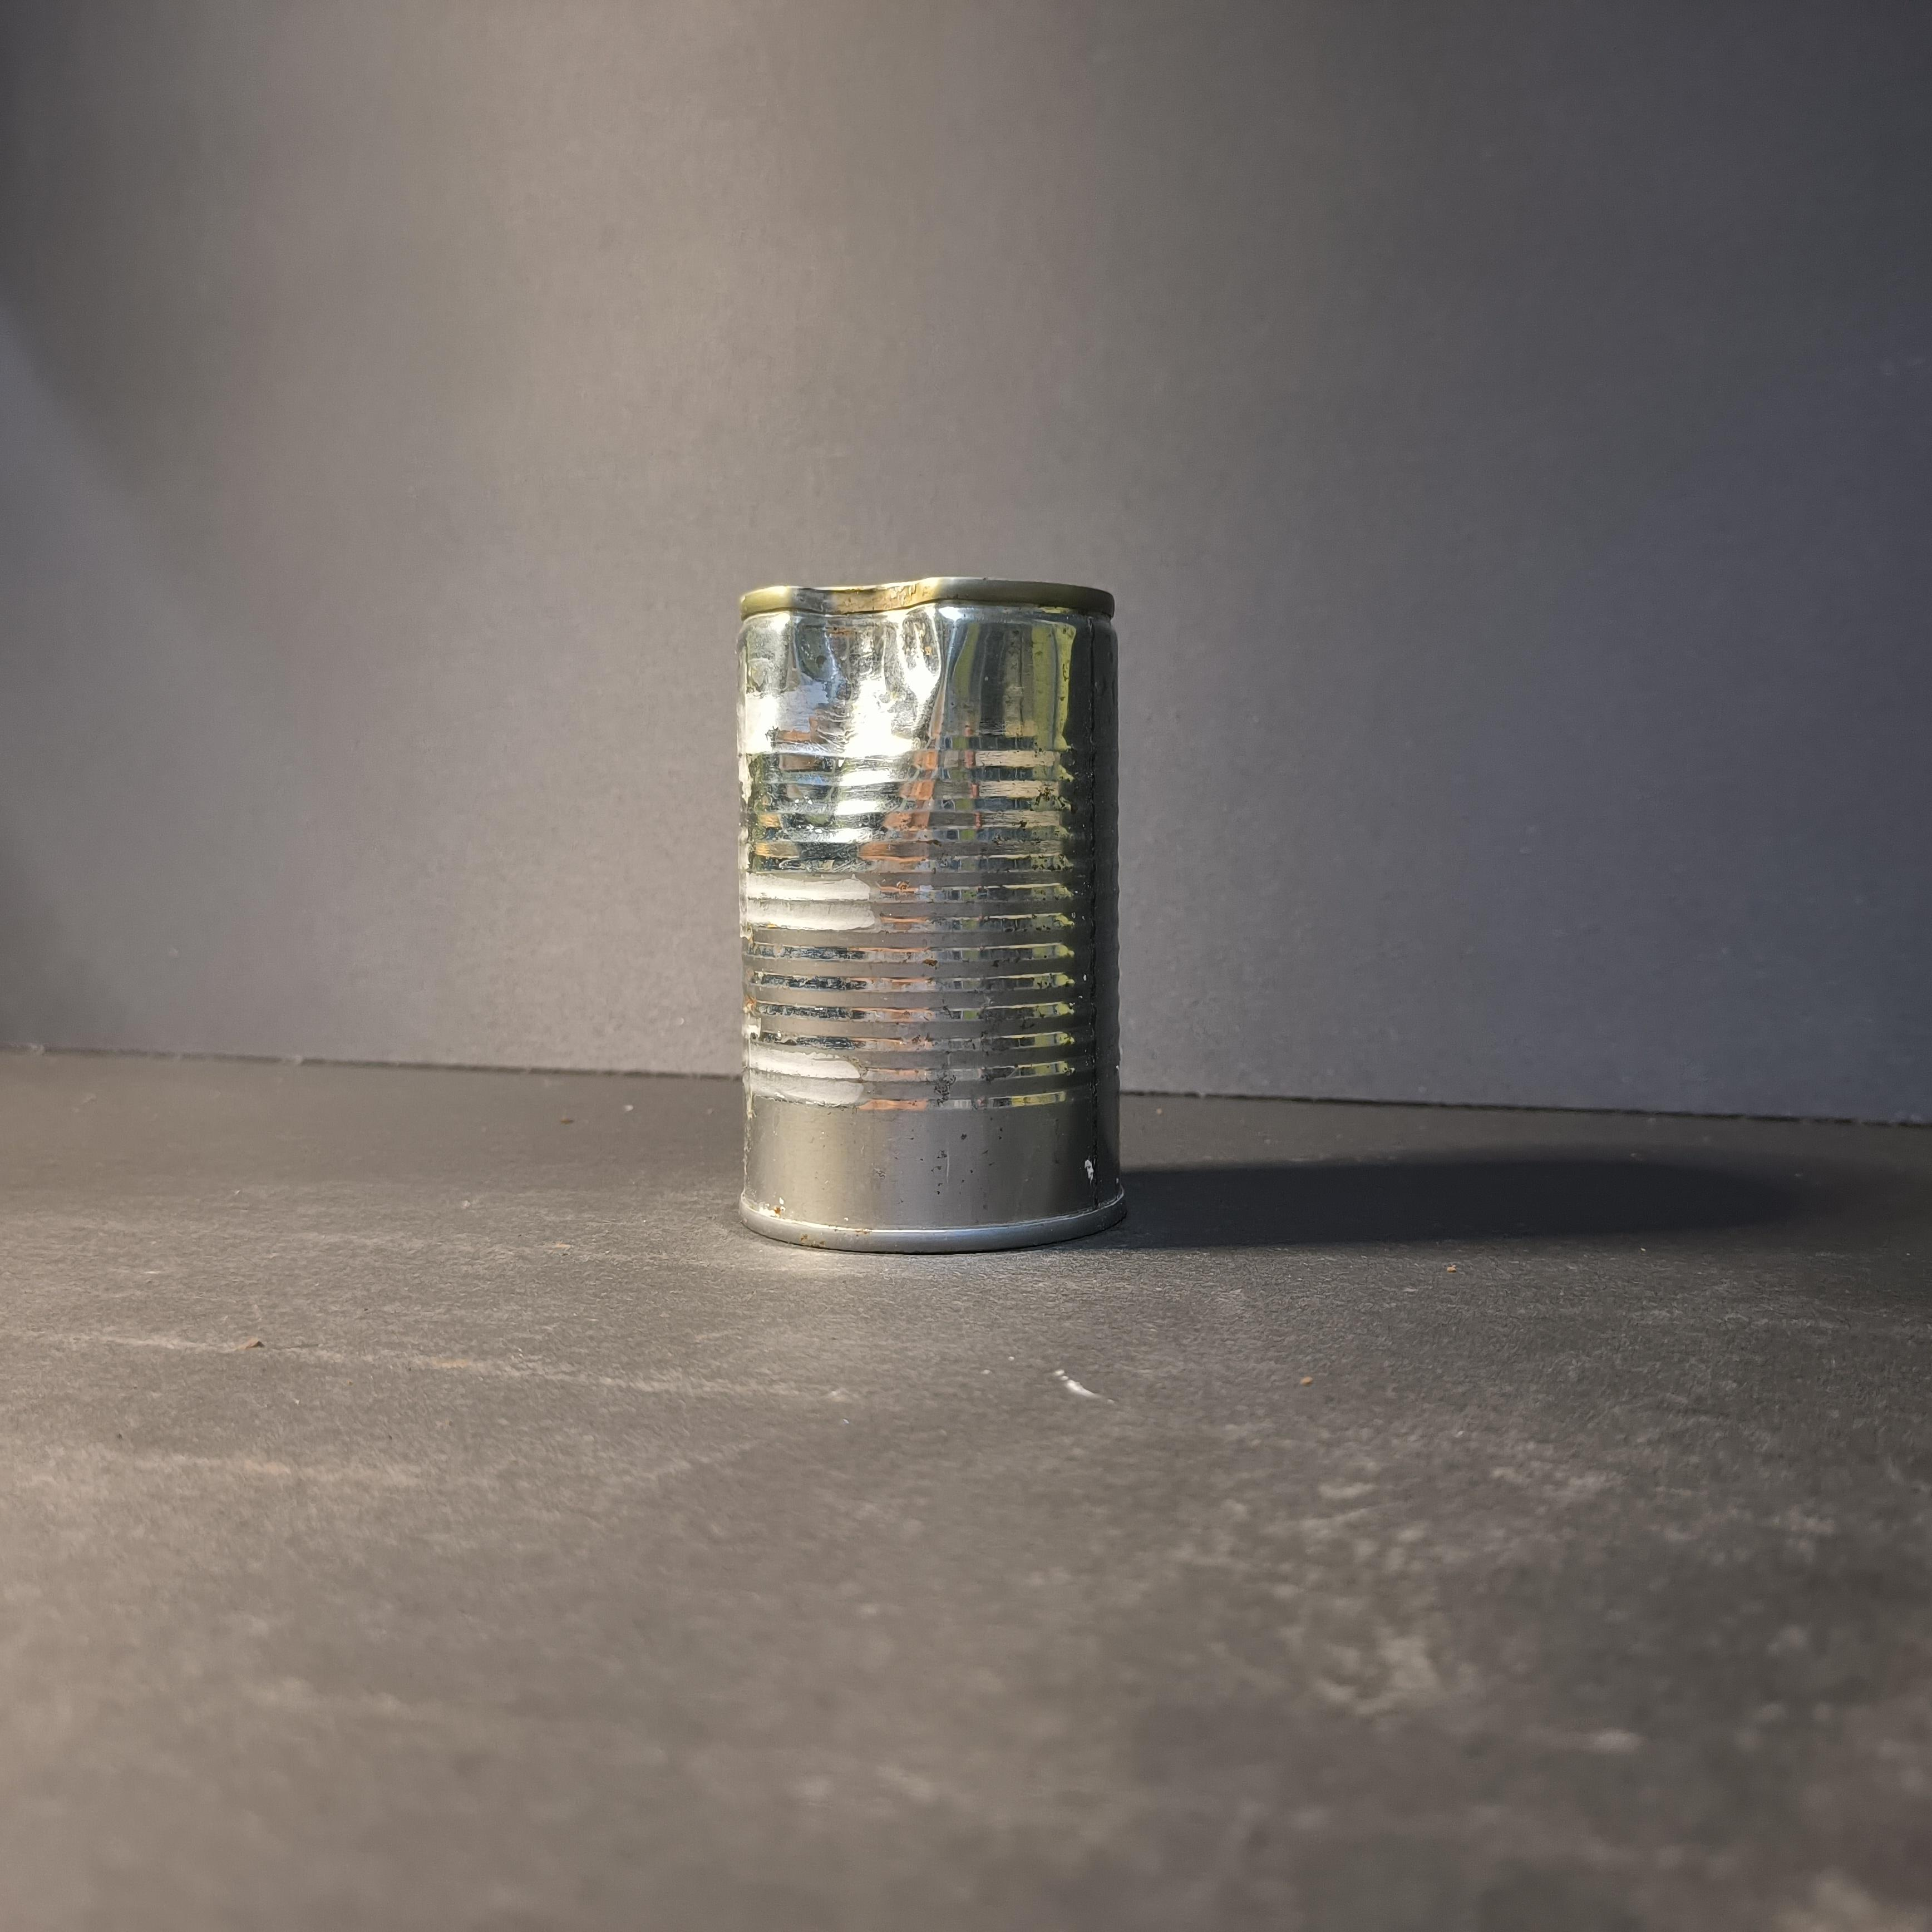Critical Defect: (732, 573, 1127, 1254)
